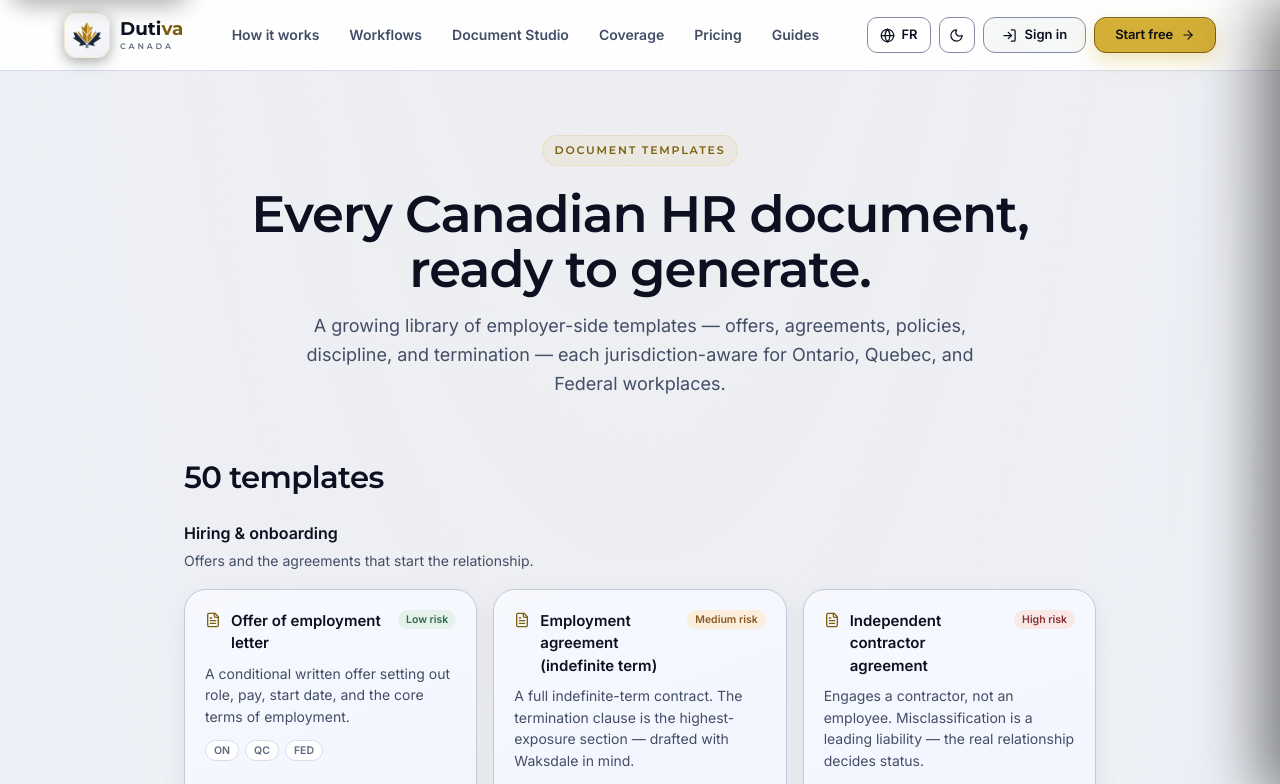
Test: TemplatesPage › re-localizes template copy to French via the header language toggle
Click the button with aria-label "Toggle language".
click(899, 35)  # box [868, 17, 931, 53]
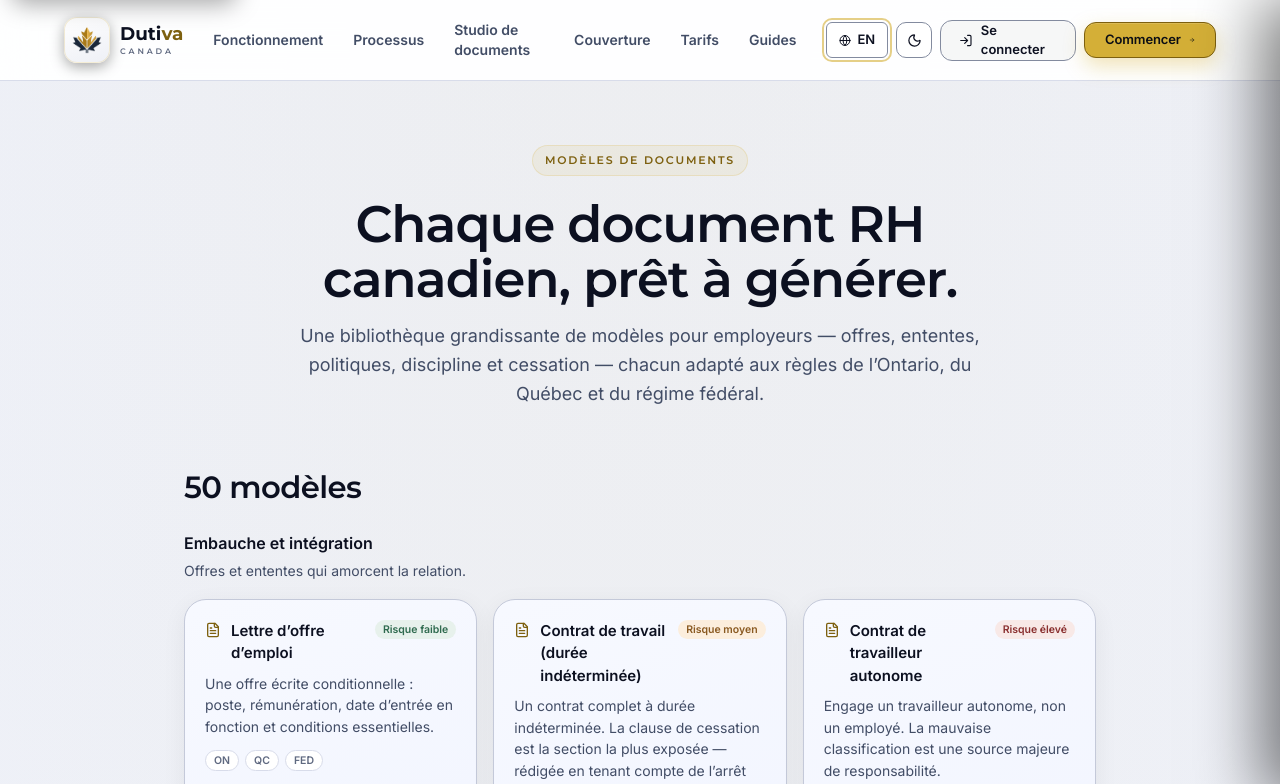
Expected: the text "Lettre d’offre d’emploi" is shown, [231, 621, 325, 662]
